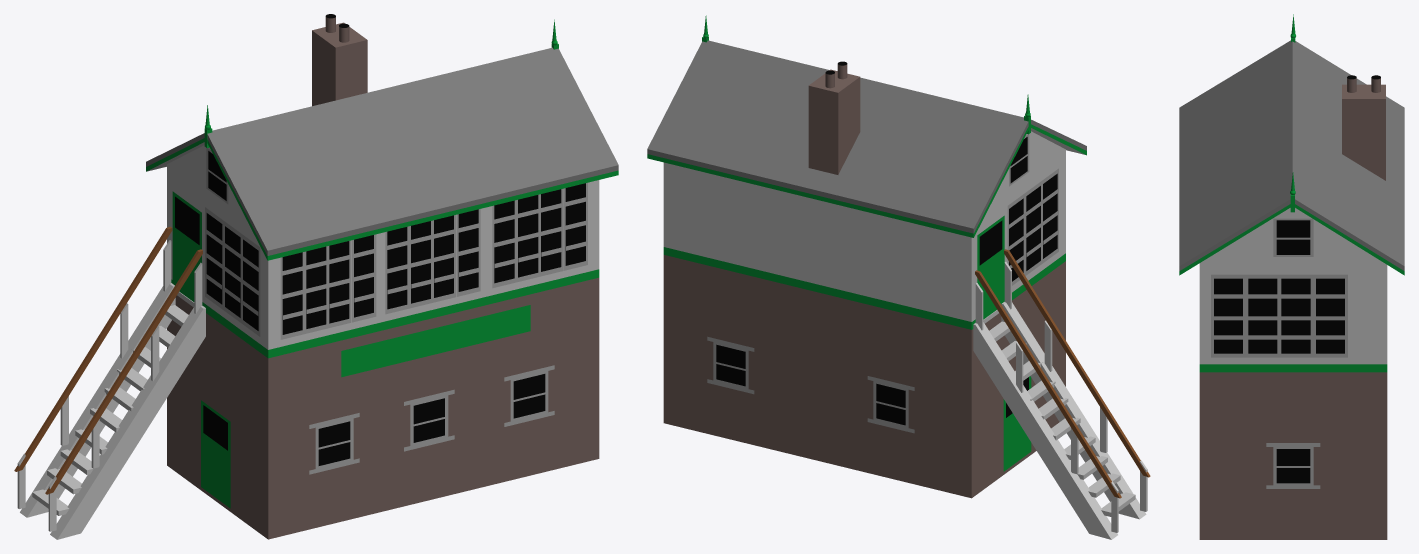
File: mechanical-signalbox-intermediate.dae
3 views of the same model, side by side, from view 1: azimuth 30°, elevation 25°; view 2: azimuth 150°, elevation 25°; view 3: azimuth 270°, elevation 25° (orthographic). The views are drawn at different scales.
Visible parts, largest first — view 1: Cube_016, Building_body_001, Building_body, Cube_001, Plane_019, Cube_015, Cube_000, Plane_022, Plane_199, Plane_024, Plane_026, Plane_025 (+18 smaller); view 2: Cube_016, Building_body_001, Building_body, Cube_000, Cube_015, Cube_001, Plane_199, Cube_013, Cube_007, Plane_036, Plane_035, Plane_002 (+4 smaller); view 3: Building_body_001, Cube_016, Building_body, Cube_015, Plane_038, Plane_041, Plane_040, Plane_039, Plane_008, Plane_011.
Boxes of the visible parts, x1,y1,x2,y2 form: Cube_016: (167,277,599,539); Building_body_001: (146,47,618,260); Building_body: (167,145,599,358); Cube_001: (50,306,205,539); Plane_019: (341,305,530,377); Cube_015: (312,14,367,106); Cube_000: (20,283,175,517); Plane_022: (201,400,230,508); Plane_199: (172,191,201,301); Plane_024: (327,240,351,328); Plane_026: (456,209,480,296); Plane_025: (352,234,376,322); Cube_016: (663,255,1065,498); Building_body_001: (647,40,1086,237); Building_body: (663,131,1065,329); Cube_000: (973,322,1117,539); Cube_015: (808,61,860,174); Cube_001: (1001,302,1146,519); Plane_199: (977,215,1004,319); Cube_013: (975,270,1121,498); Cube_007: (1004,249,1150,477); Plane_036: (1024,181,1042,275); Plane_035: (1041,168,1058,263); Plane_002: (873,381,908,427); Building_body_001: (1179,40,1404,275); Cube_016: (1199,372,1387,539); Building_body: (1199,208,1387,372); Cube_015: (1342,75,1385,180); Plane_038: (1211,274,1245,357); Plane_041: (1313,274,1347,357); Plane_040: (1278,274,1313,357); Plane_039: (1245,274,1279,357); Plane_008: (1273,447,1313,485); Plane_011: (1273,218,1313,256).
Bounding box in the file's own units: 7.85 × 3.33 × 6.42.
